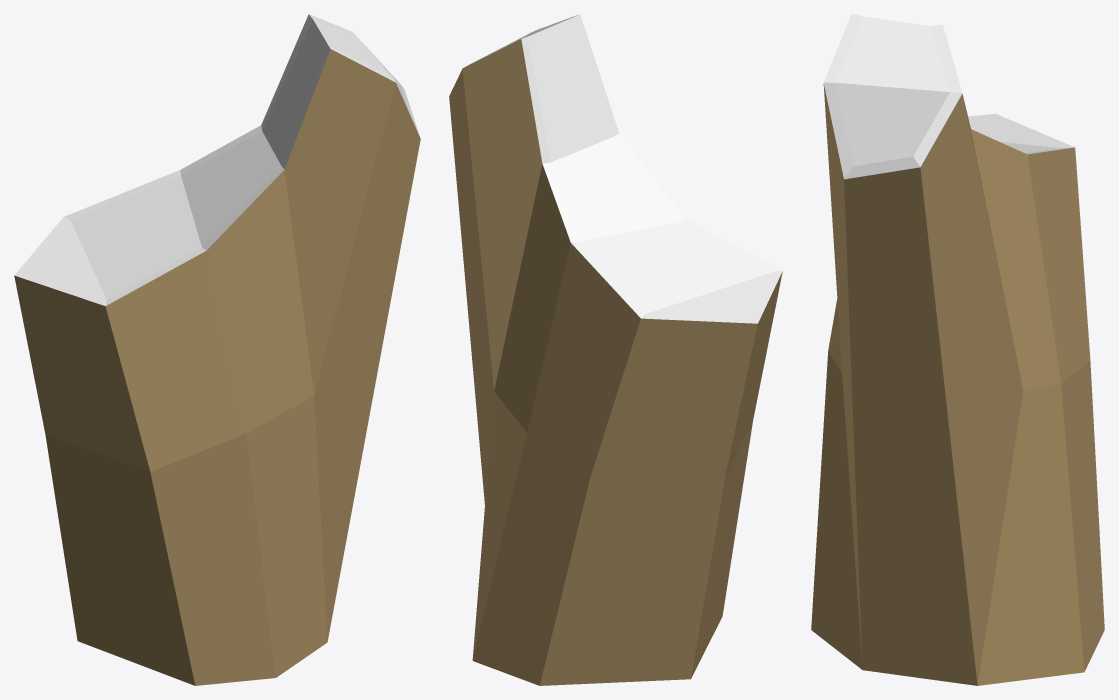
Rendered from Acacia_Stump_Snow_02.fbx.
3 views of the same model, side by side, from view 1: azimuth 30°, elevation 25°; view 2: azimuth 150°, elevation 25°; view 3: azimuth 270°, elevation 25° (orthographic). The views are drawn at different scales.
Visible parts, largest first — view 1: Acacia_Stump_Snow_02; view 2: Acacia_Stump_Snow_02; view 3: Acacia_Stump_Snow_02.
Boxes of the visible parts, x1,y1,x2,y2 form: Acacia_Stump_Snow_02: [14, 14, 420, 685]; Acacia_Stump_Snow_02: [449, 14, 782, 685]; Acacia_Stump_Snow_02: [811, 14, 1104, 685].
Bounding box in the file's own units: 110 × 176 × 71.53.
